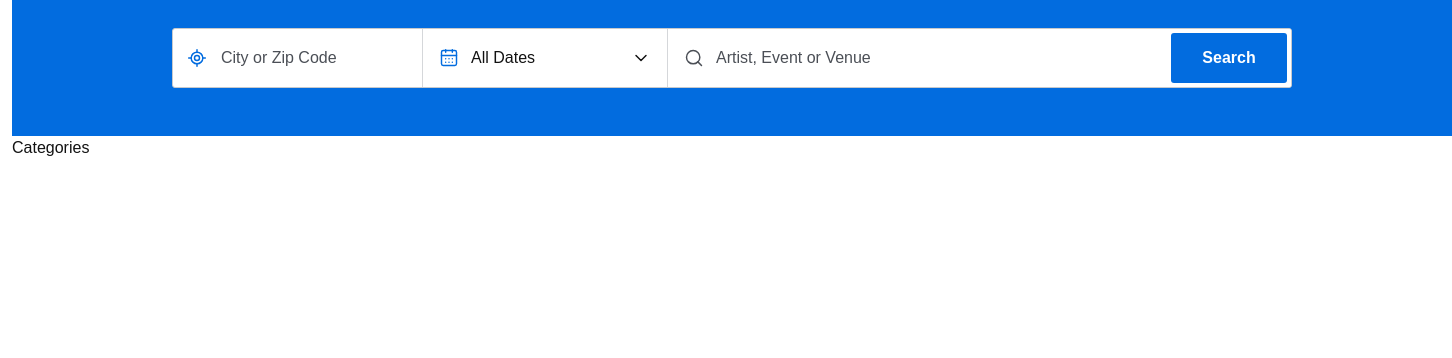
Test: DiscoverKeywordSearch › shows isolated loading, empty, and safe error states
This screenshot has width=1452, height=358.
Type "Pending" into the search field named "Search".
click(936, 58); type("Pending")  # box [704,29,1167,87]
Then press Enter
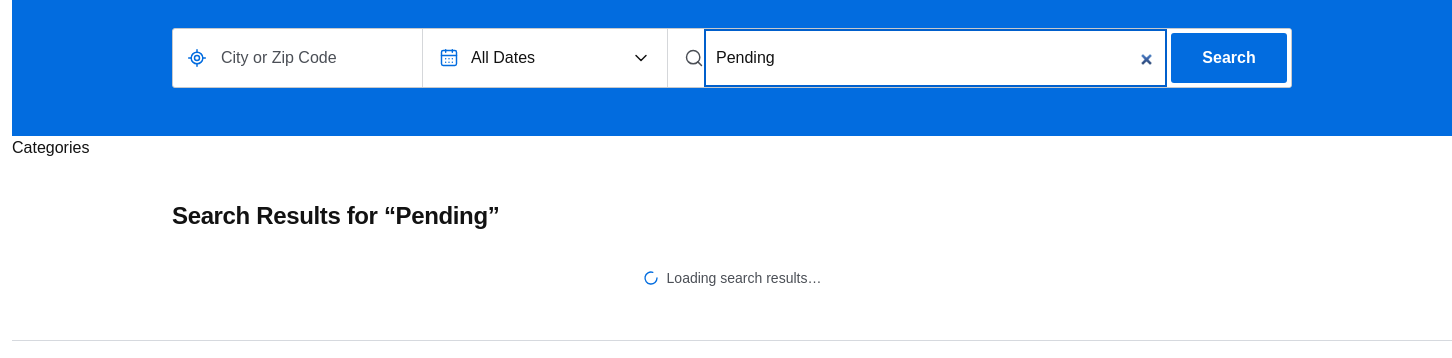
Now the text "Loading search results…" is shown, box [667,268,822,288]
